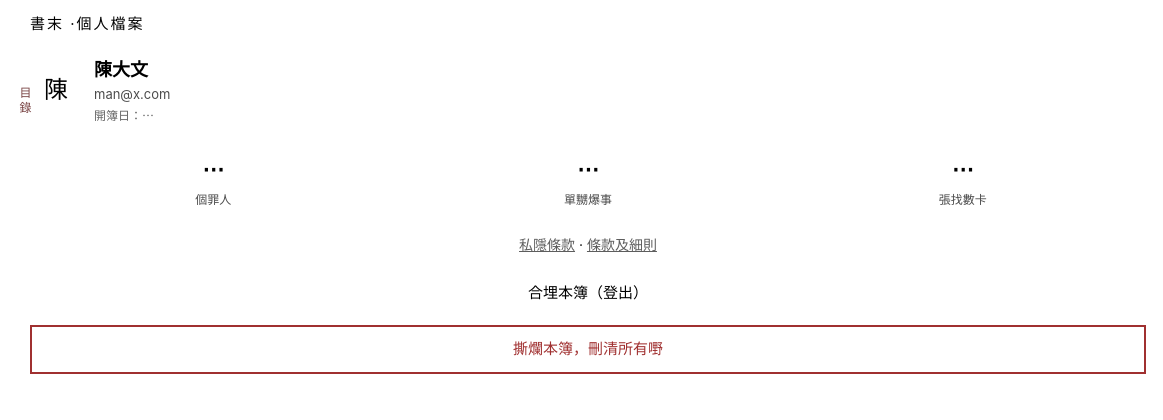
a failed profile fetch never invents a zero count in the warning
Click the button "撕爛本簿，刪清所有嘢" at (588, 349), box [30,325,1146,374]
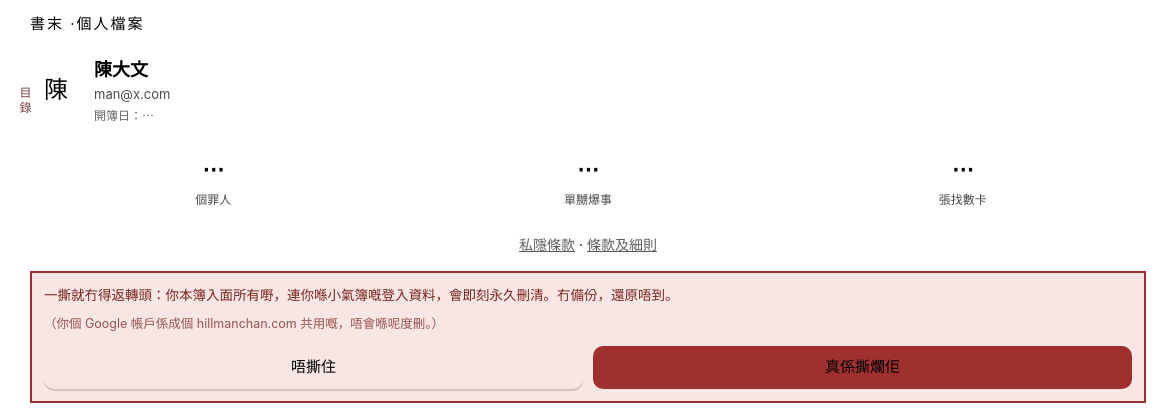
Result: the text "一撕就冇得返轉頭：你本簿入面所有嘢，連你喺小氣簿嘅登入資料，會即刻永久刪清。冇備份，還原唔到。" is shown at [44,286,678,302]
